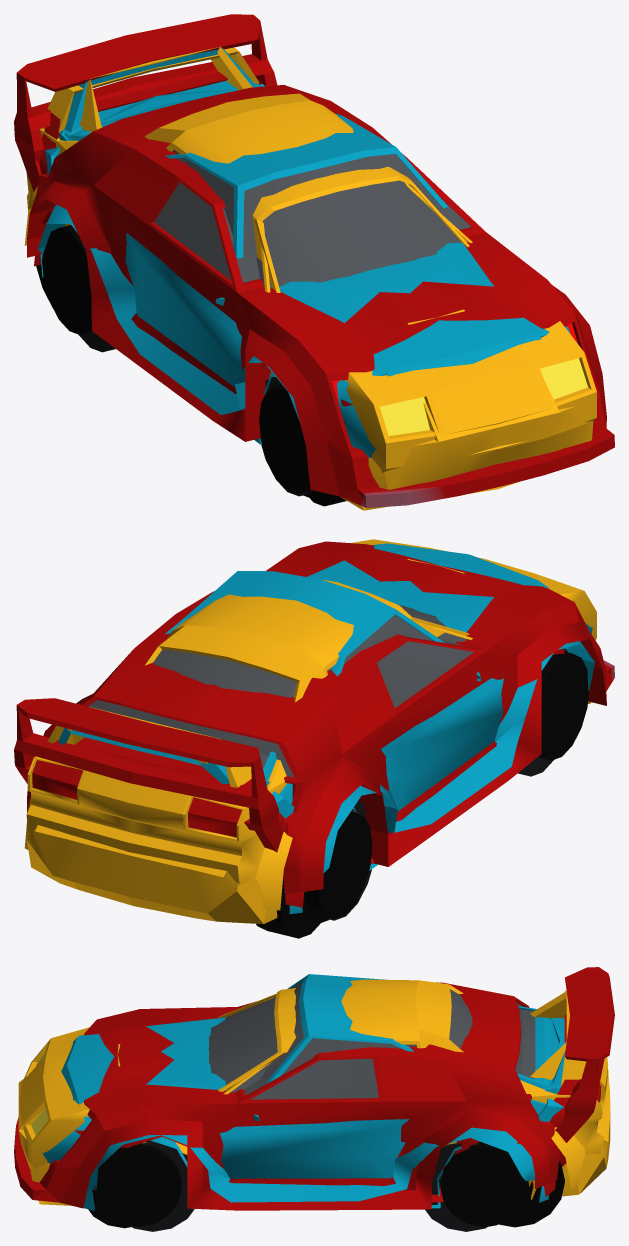
File: model car.fbx
3 views of the same model, one above another, from view 1: azimuth 30°, elevation 25°; view 2: azimuth 150°, elevation 25°; view 3: azimuth 270°, elevation 25° (orthographic). The views are drawn at different scales.
Visible parts, largest first — view 1: car_6, car_7, car_1, car4, car_5, car_2; view 2: car_6, car_7, car_1, car4, car_2, car_5; view 3: car_6, car_7, car_1, car4, car_5, car_2.
Boxes of the visible parts, x1,y1,x2,y2 form: car_6: (14, 14, 614, 507); car_7: (38, 90, 570, 496); car_1: (27, 46, 593, 510); car4: (24, 47, 596, 499); car_5: (40, 48, 313, 493); car_2: (34, 71, 352, 412); car_6: (14, 541, 614, 919); car_7: (156, 543, 594, 920); car_1: (27, 559, 591, 924); car4: (24, 539, 596, 938); car_2: (75, 648, 565, 907); car_5: (58, 647, 570, 923); car_6: (14, 967, 614, 1226); car_7: (42, 974, 565, 1231); car_1: (18, 979, 610, 1228); car4: (19, 990, 609, 1227); car_5: (83, 1006, 565, 1222); car_2: (74, 1014, 579, 1202).
Bounding box in the file's own units: 2.06 × 1.53 × 4.54.
Materials: 1 (1 with a texture image).
